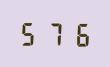five: (18, 19, 41, 46)
seven: (43, 19, 66, 47)
six: (67, 20, 90, 47)
